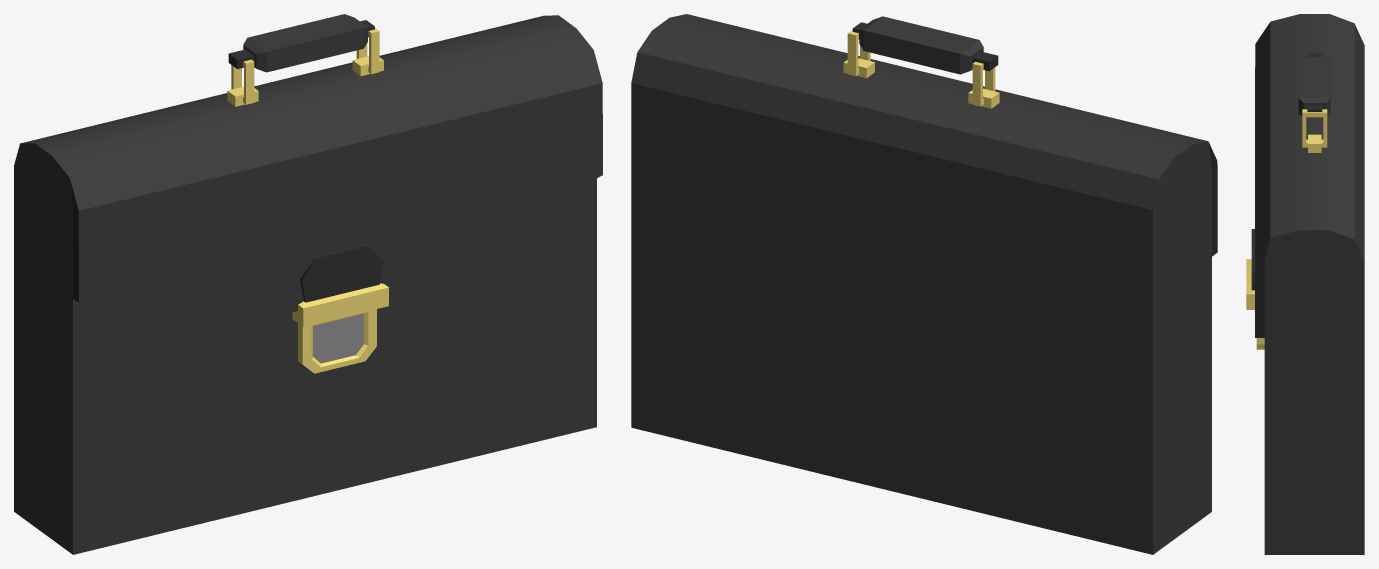
Rendered from suitcase.glb.
The picture shows the model from 3 angles, left to right: view 1: azimuth 30°, elevation 25°; view 2: azimuth 150°, elevation 25°; view 3: azimuth 270°, elevation 25°; orthographic projection. The views are drawn at different scales.
Visible parts, largest first — view 1: mesh_briefcase_01; view 2: mesh_briefcase_01; view 3: mesh_briefcase_01.
Boxes of the visible parts, <box> form: mesh_briefcase_01: <box>14,14,602,554</box>; mesh_briefcase_01: <box>631,14,1217,554</box>; mesh_briefcase_01: <box>1246,14,1364,554</box>.
Bounding box in the file's own units: 0.5396 × 0.4296 × 0.1251.
1 material, 1 textured.
